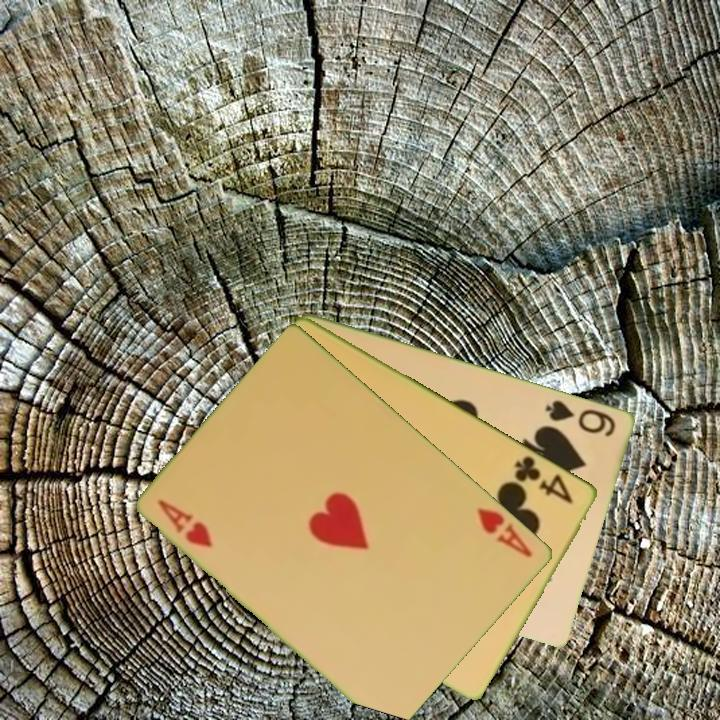4c: (511, 452, 577, 507)
6s: (542, 396, 619, 439)
Ah: (474, 504, 536, 560), (154, 496, 216, 550)
